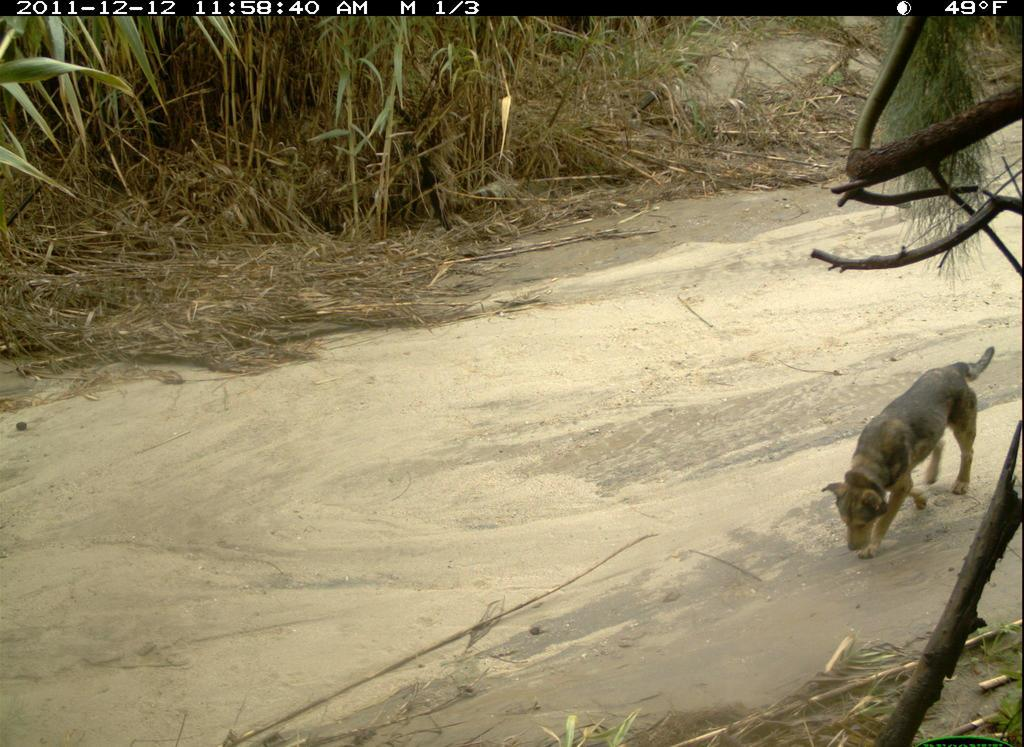dog: (818, 337, 1008, 577)
